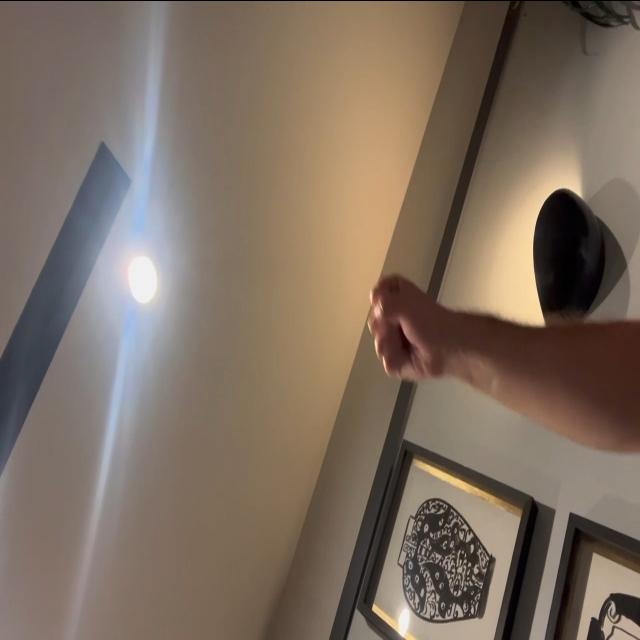Rock: (368, 270, 440, 390)
